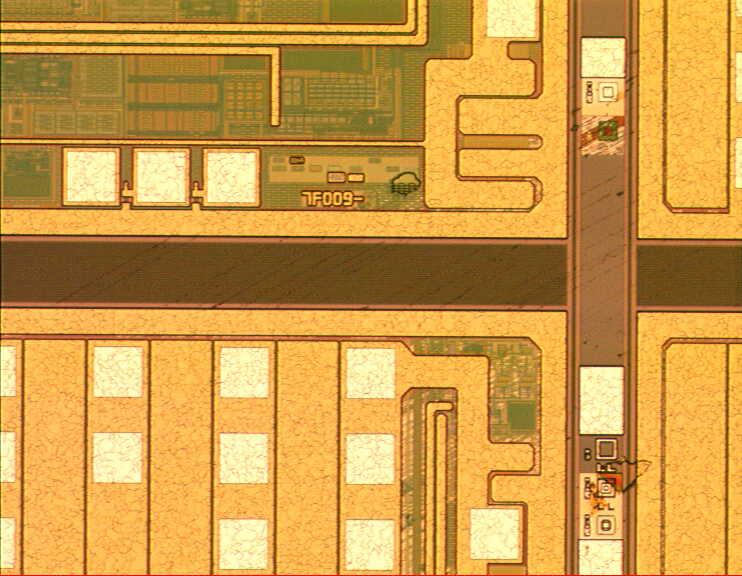SCRATCH: (3, 34, 714, 526)
